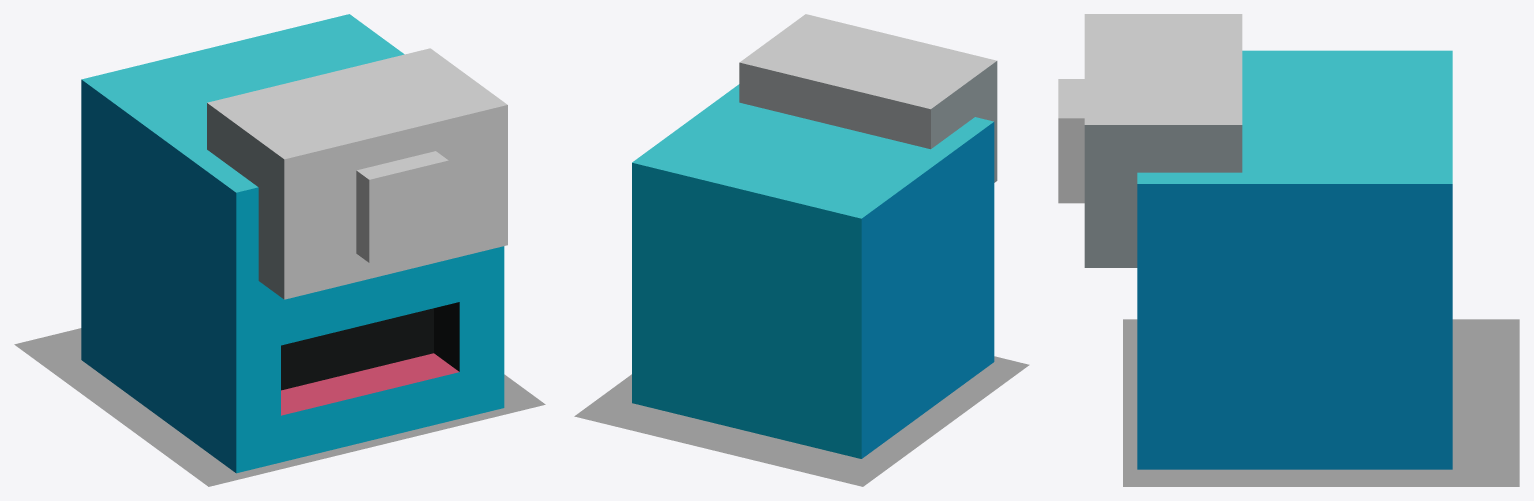
File: EN_TinyBit_Cyan.fbx
3 views of the same model, side by side, from view 1: azimuth 30°, elevation 25°; view 2: azimuth 150°, elevation 25°; view 3: azimuth 270°, elevation 25° (orthographic). The views are drawn at different scales.
Parts seen in each view (by area): view 1: Body, Eye, Mouth, Shadow, Pupil; view 2: Body, Eye, Shadow; view 3: Body, Eye, Shadow, Pupil.
Part boxes in pixels (x1,y1,x2,y2): Body: (81,14,504,473); Eye: (207,48,507,299); Mouth: (281,353,459,462); Shadow: (14,328,545,486); Pupil: (356,151,448,262); Body: (632,84,994,458); Eye: (739,14,997,182); Shadow: (574,356,1029,486); Body: (1137,50,1452,469); Eye: (1084,14,1242,267); Shadow: (1123,319,1519,486); Pupil: (1058,79,1084,203).
Bounding box in the file's own units: 37.73 × 35 × 43.86.
